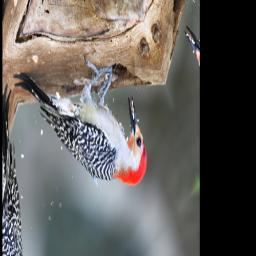Woodpecker: (14, 0, 154, 256)
